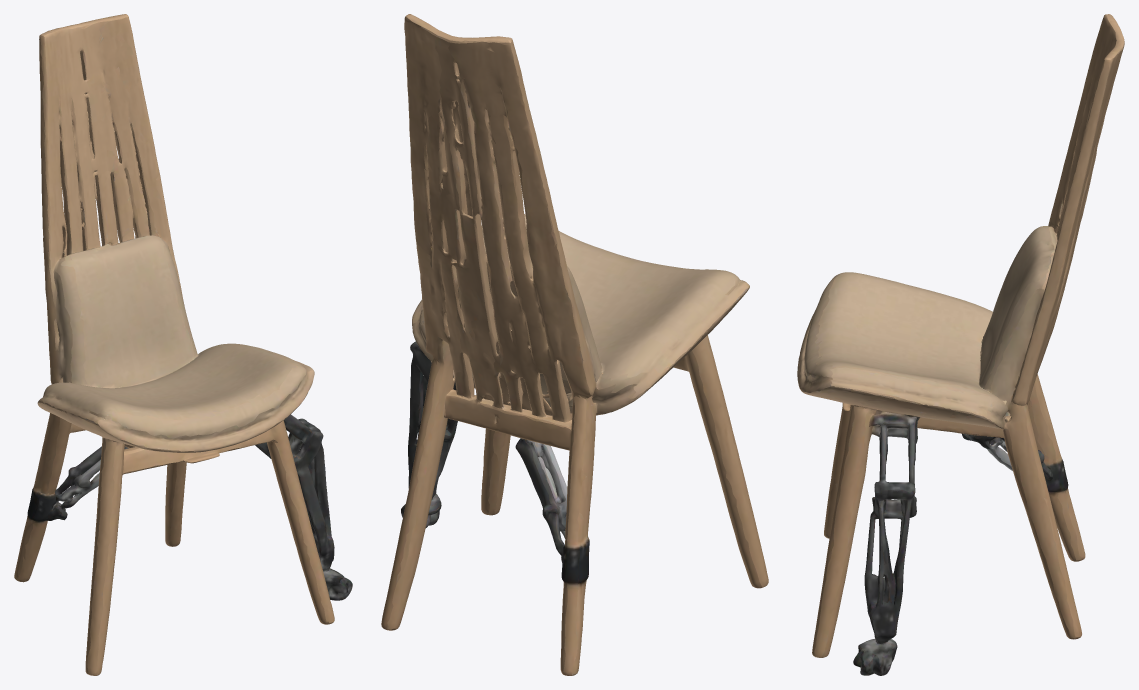
3 views of the same model, side by side, from view 1: azimuth 30°, elevation 25°; view 2: azimuth 150°, elevation 25°; view 3: azimuth 270°, elevation 25° (orthographic). The views are drawn at different scales.
Visible parts, largest first — view 1: geometry_0; view 2: geometry_0; view 3: geometry_0.
Boxes of the visible parts, box(x1,y1,x2,y2) form: geometry_0: box(14, 14, 352, 675); geometry_0: box(381, 14, 768, 675); geometry_0: box(797, 14, 1124, 675).
Size of the model in its own units: 0.7242 by 1.3 by 0.6837.
1 material, 1 textured.
